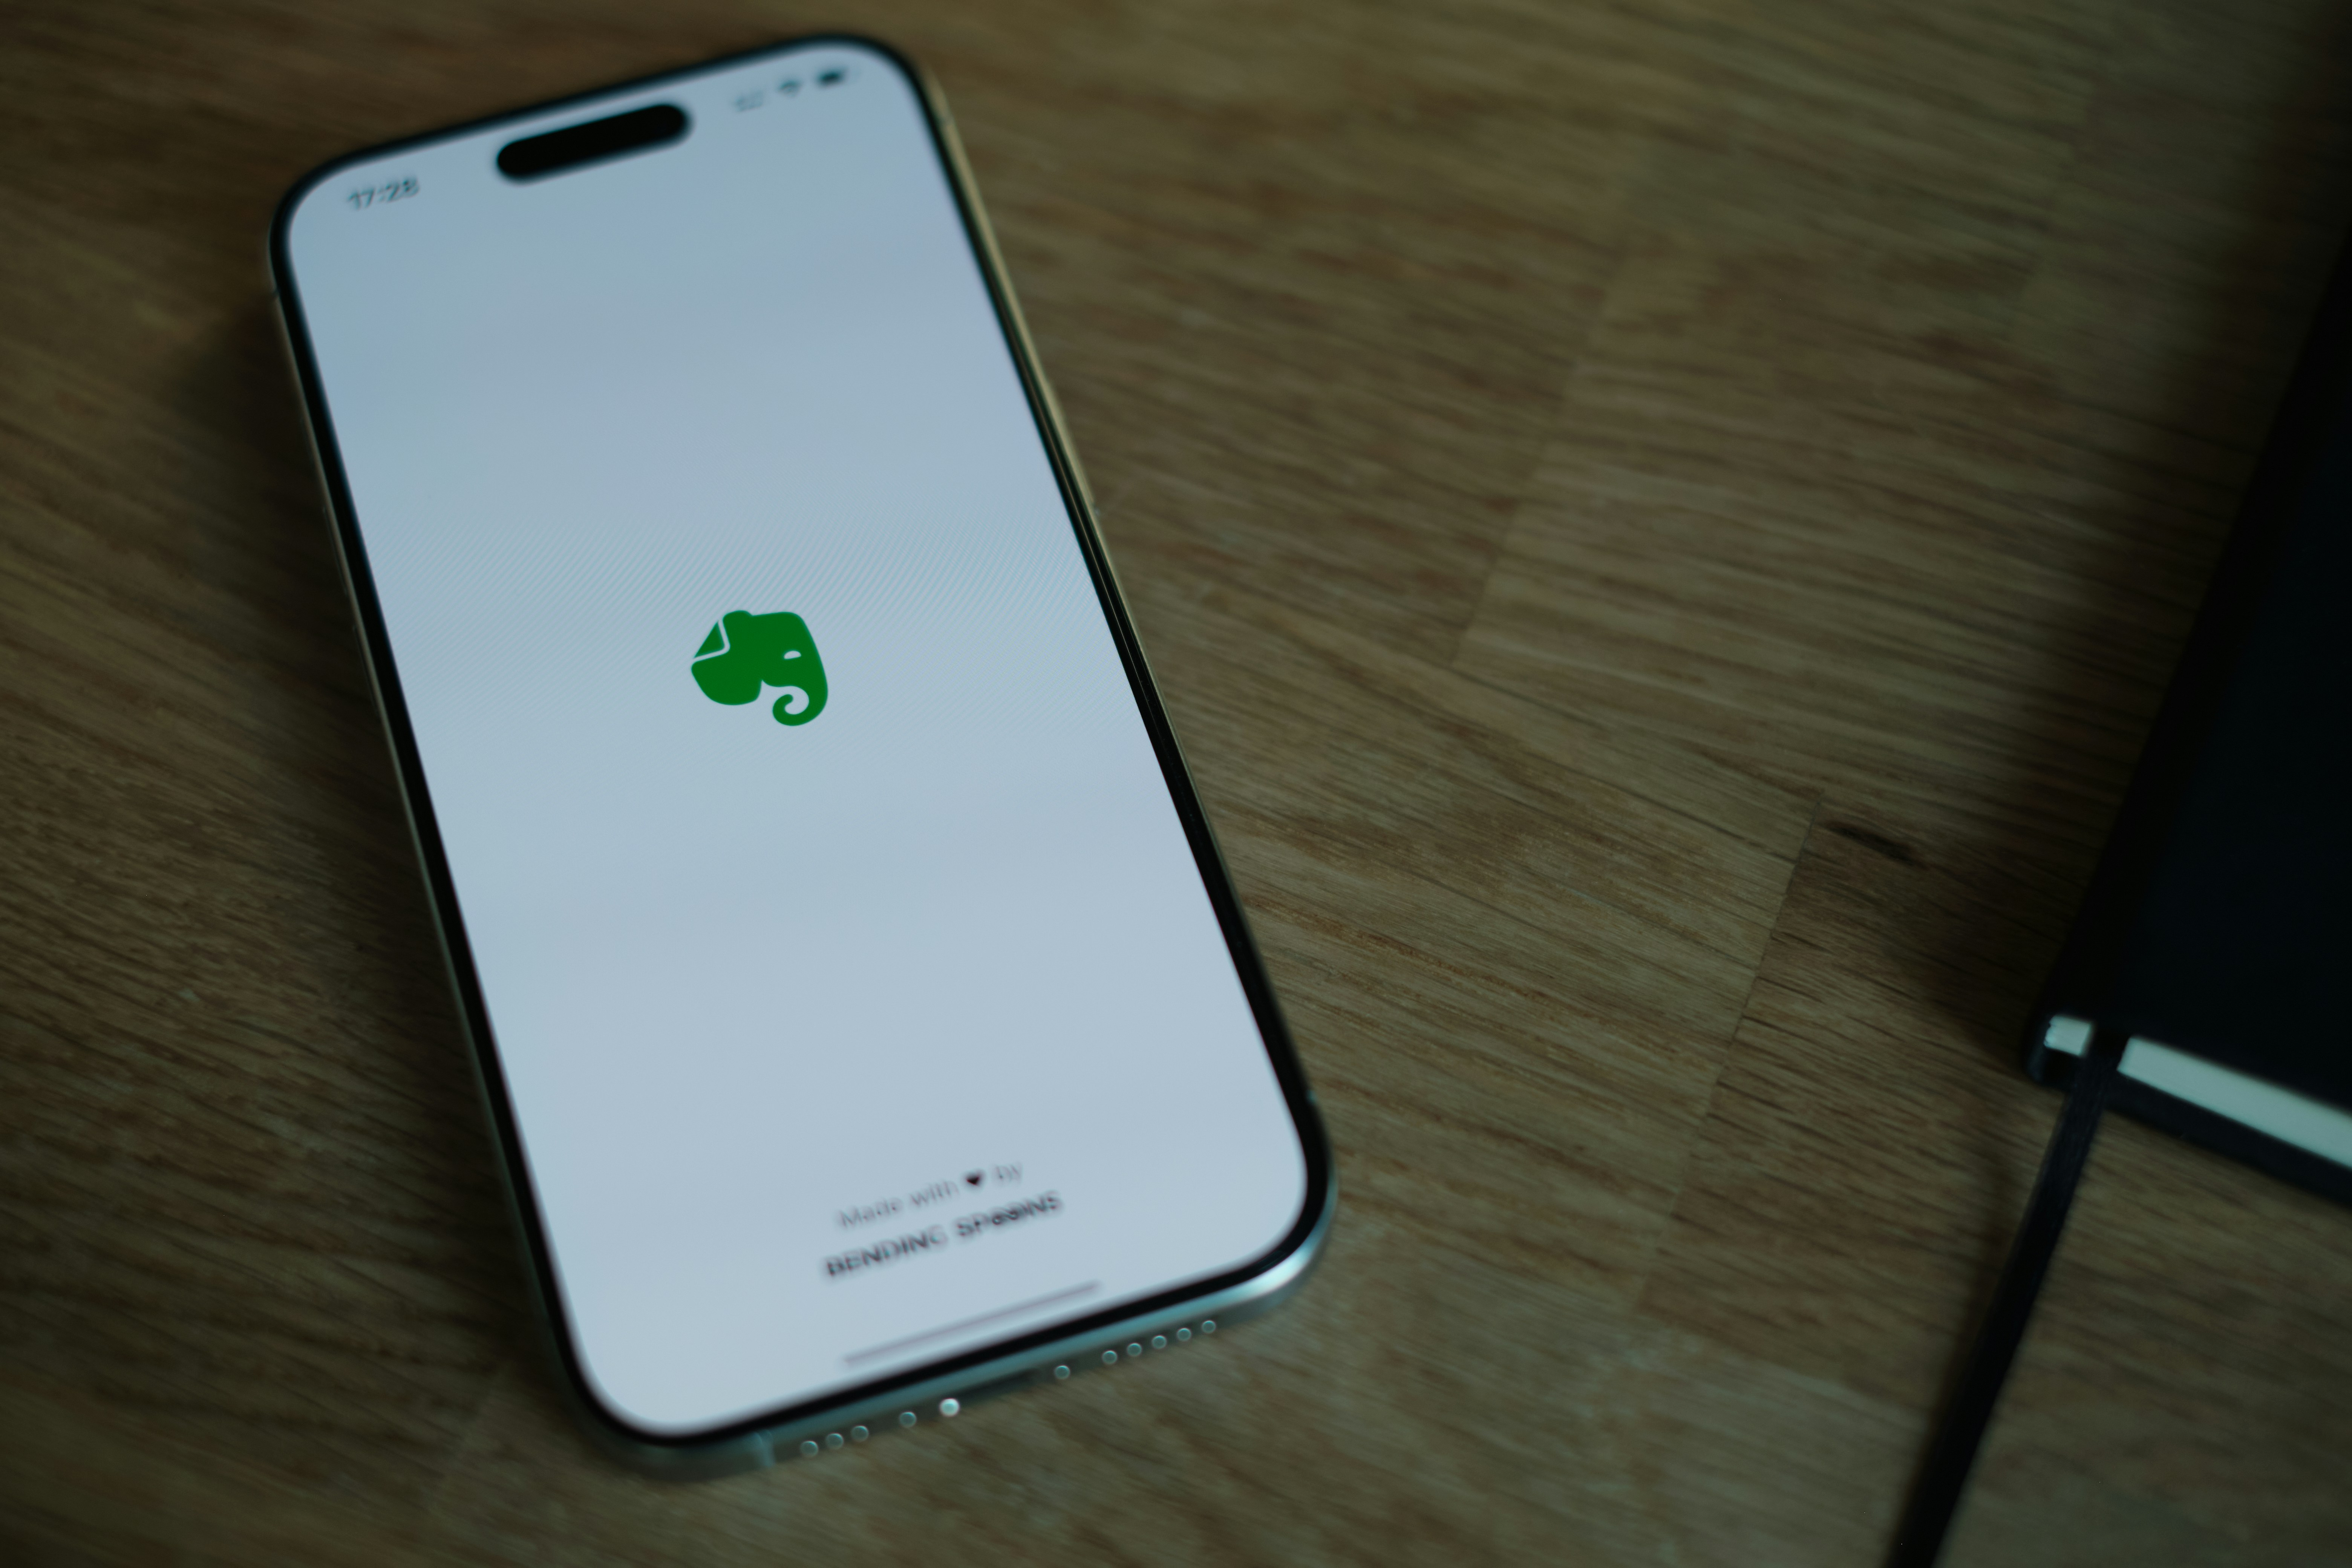p6: (217, 23, 1437, 1514)
